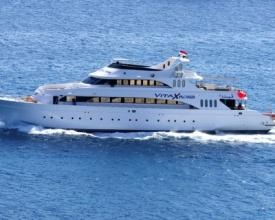yacht: (2, 47, 274, 132)
